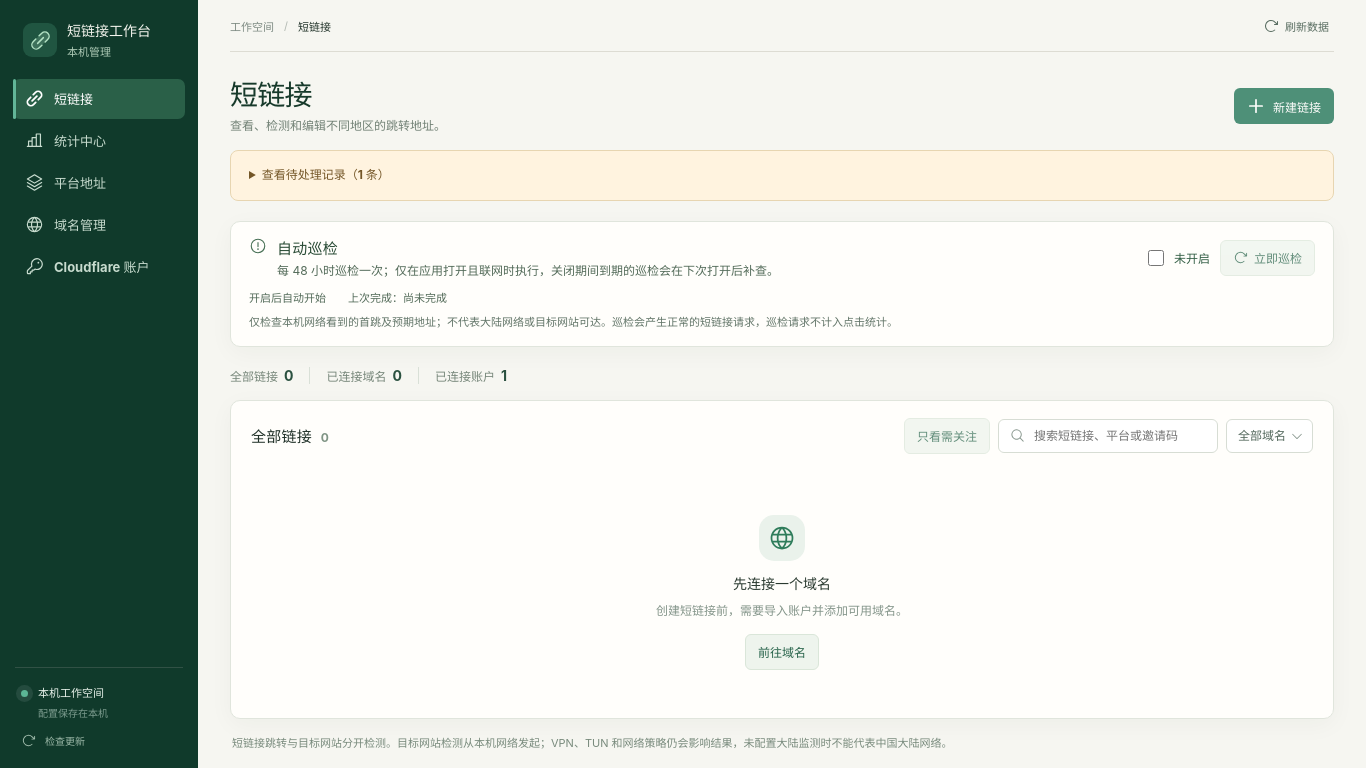
Test case: keeps a DNS repair plan open while applying, so its late result cannot prepare another host
Check: the heading "先连接一个域名" is shown, box x1=733 y1=575 x2=831 y2=592
Click the button "域名管理" at (99, 224), box x1=13 y1=204 x2=185 y2=244
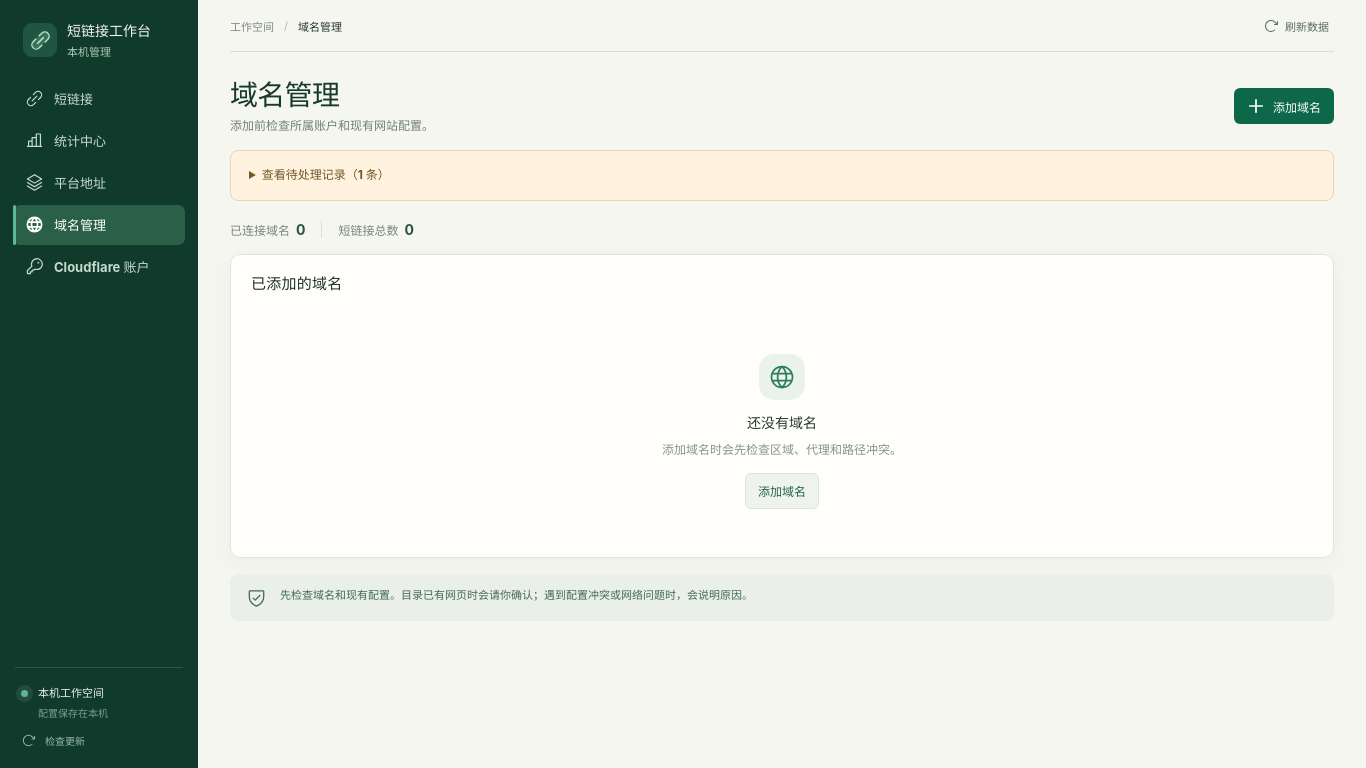
Click the button "添加域名" in the row of "添加前检查所属账户和现有网站配置。" at (1284, 106), box x1=1234 y1=88 x2=1334 y2=124
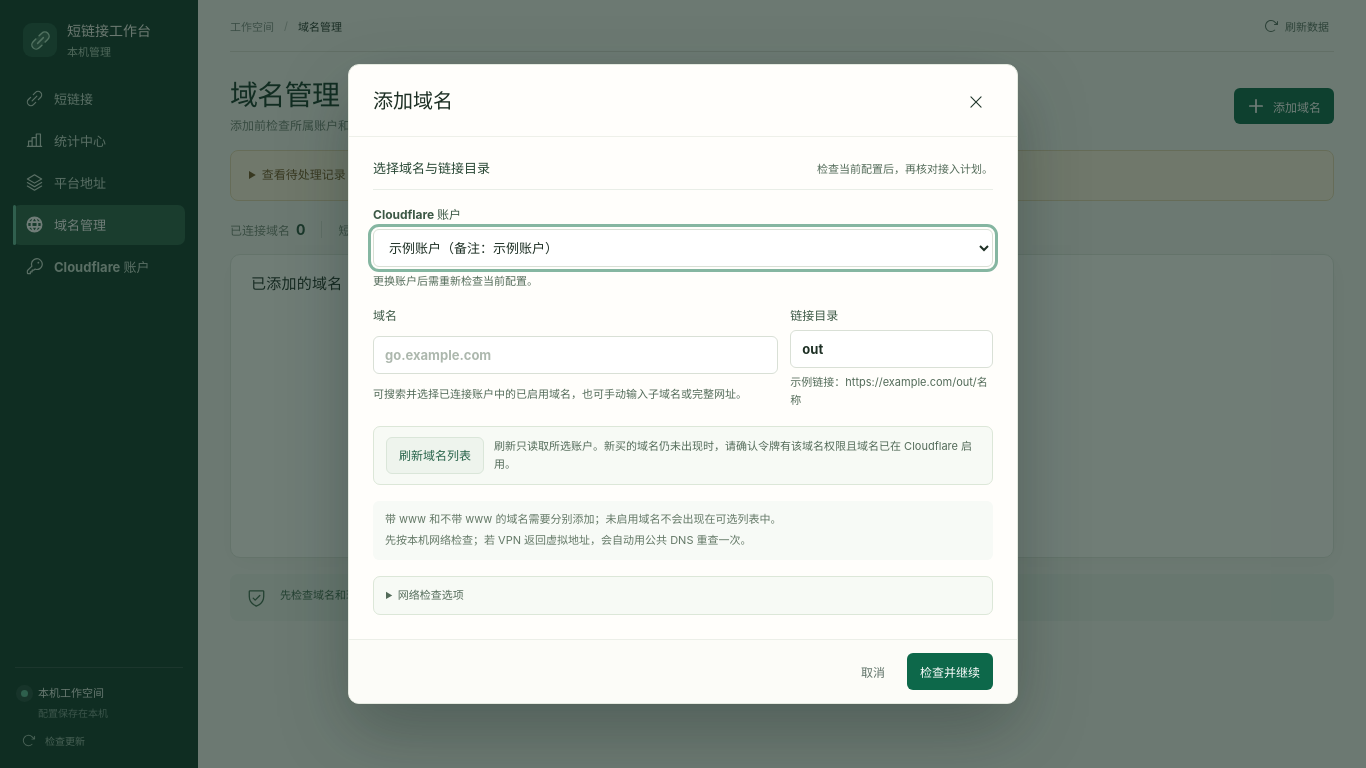
Type "old.example.com" into the field with placeholder "go.example.com" at (576, 355), box x1=373 y1=336 x2=778 y2=374
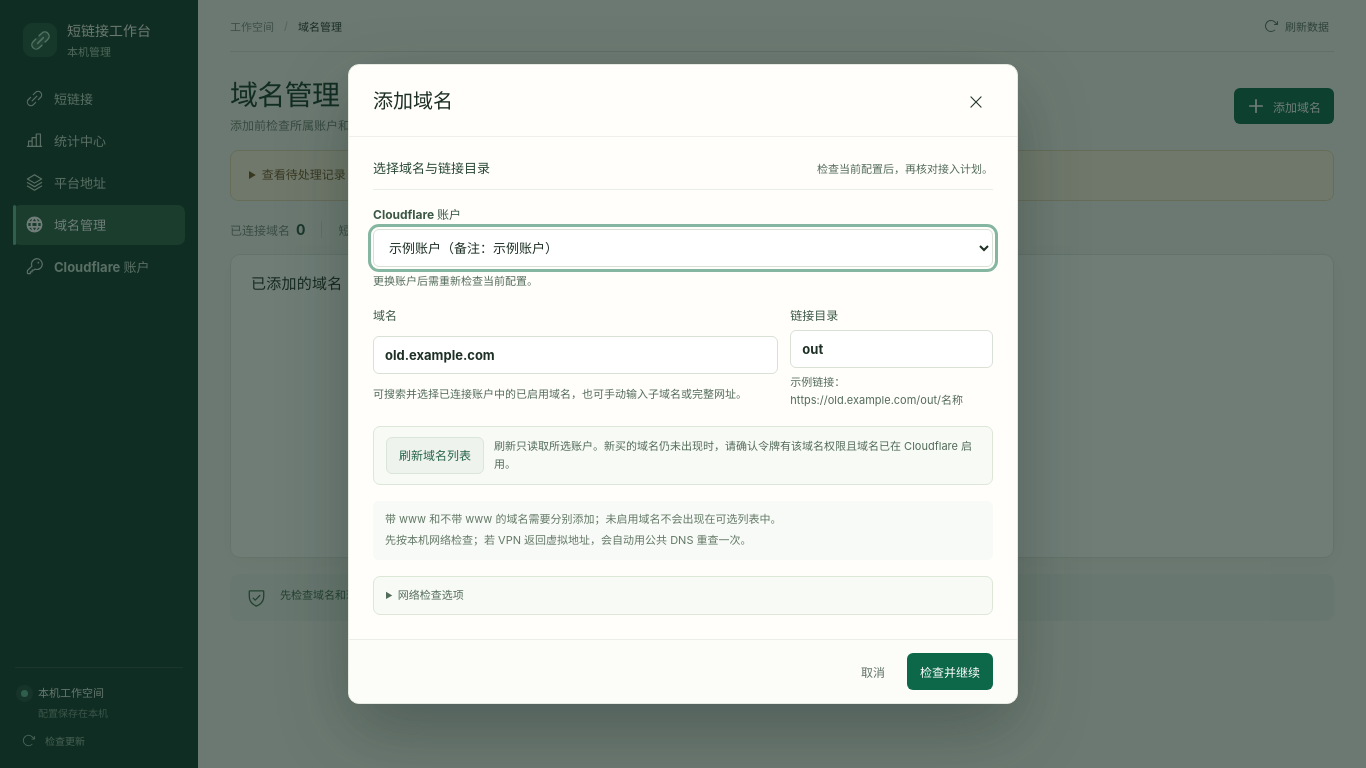
Click the button "检查并继续" at (950, 672), box x1=907 y1=653 x2=993 y2=690
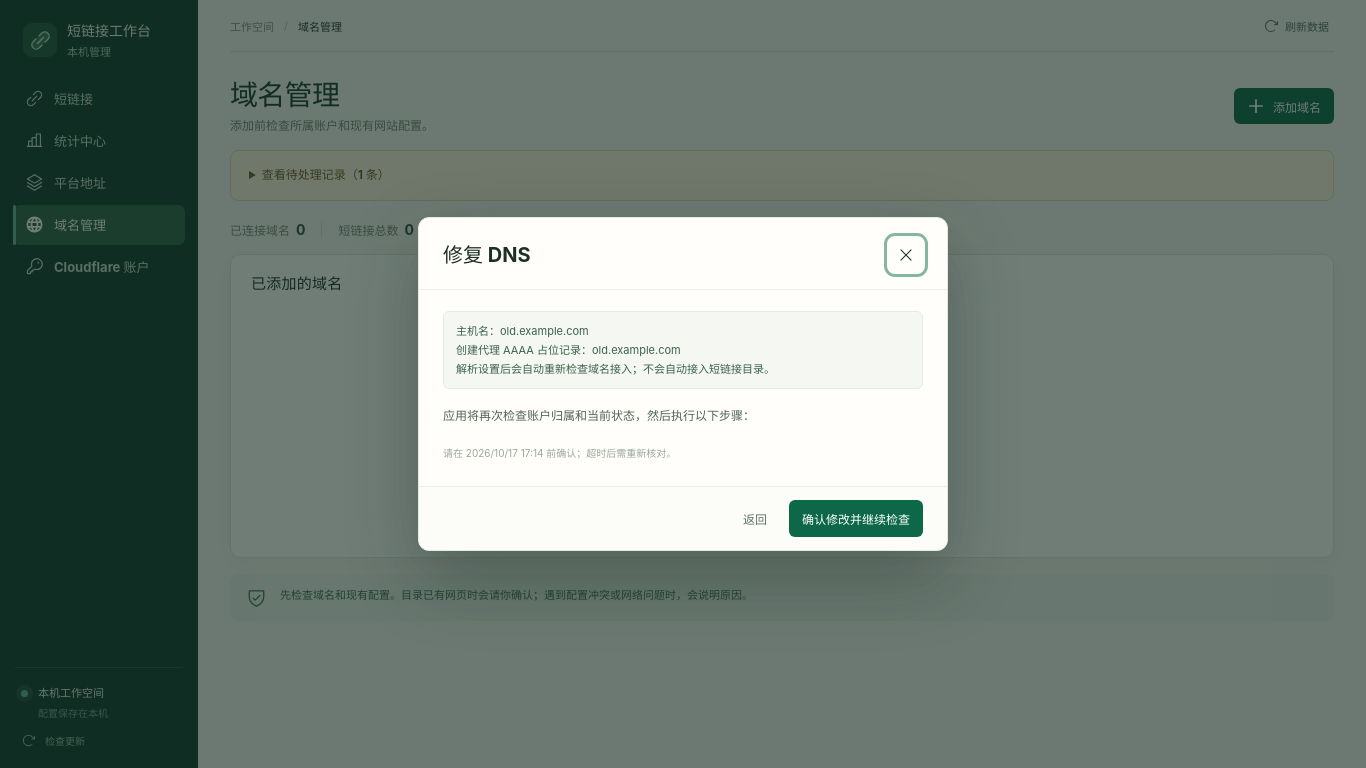
Click the button "确认修改并继续检查" at (856, 518), box x1=789 y1=500 x2=923 y2=537
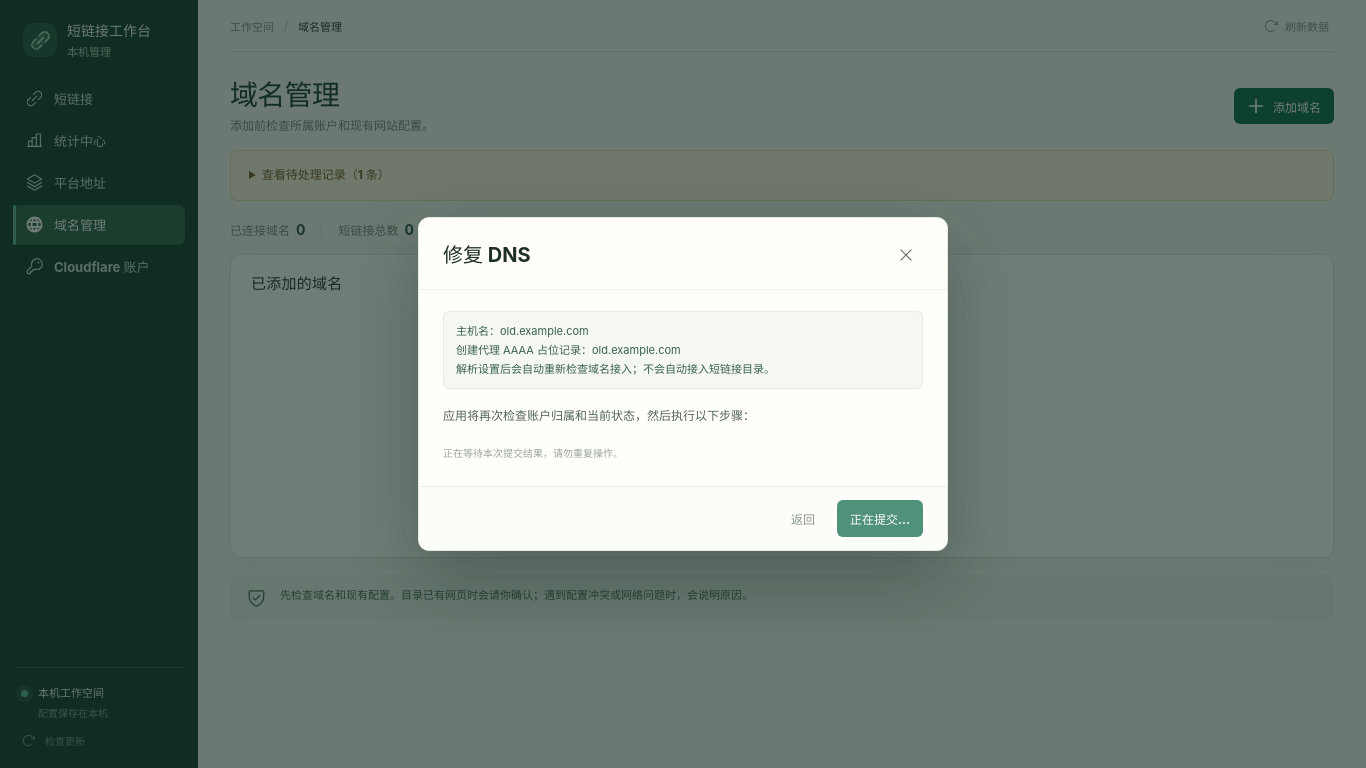
Press Escape
Press the mouse on the element that starts with "修复 DNS" at (683, 384), box x1=0 y1=0 x2=1365 y2=767
Click the button "返回" at (803, 518), box x1=778 y1=500 x2=828 y2=537
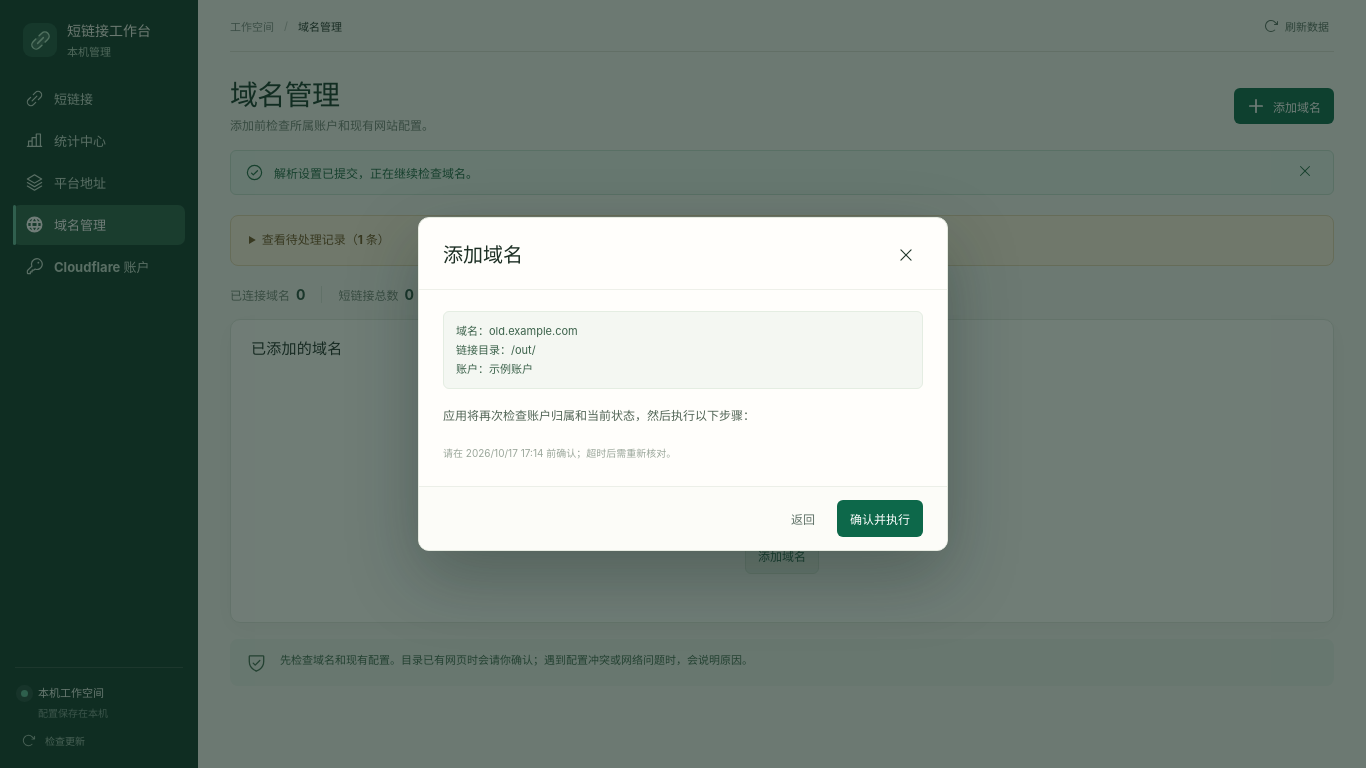
Check: the dialog named "修复 DNS" is shown, box x1=418 y1=217 x2=948 y2=551
Check: the text "解析设置已提交，正在继续检查域名。" is shown, box x1=274 y1=166 x2=478 y2=181
Check: the text "域名：old.example.com" is shown, box x1=456 y1=324 x2=578 y2=338
